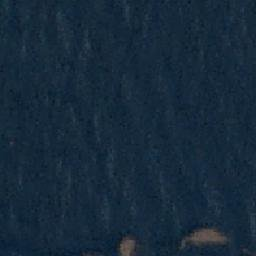debris: (185, 229, 223, 242), (119, 237, 140, 254)
